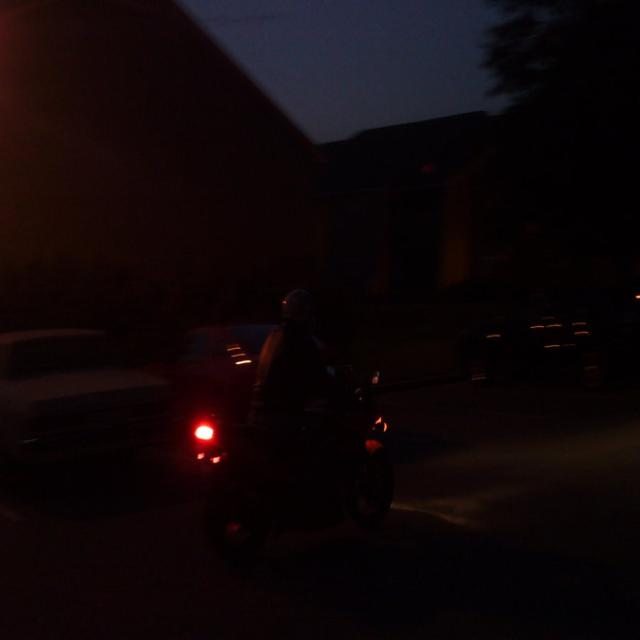Motorbike: (154, 300, 457, 599)
